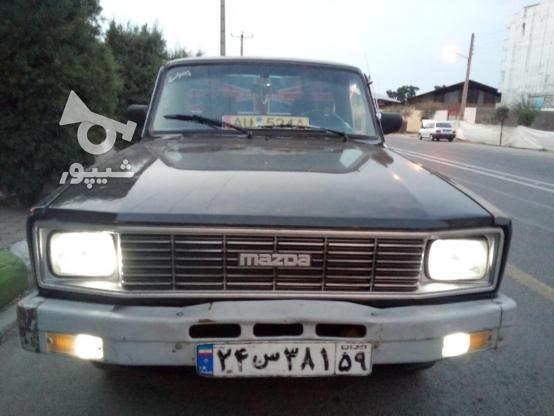car: (195, 342, 370, 376)
